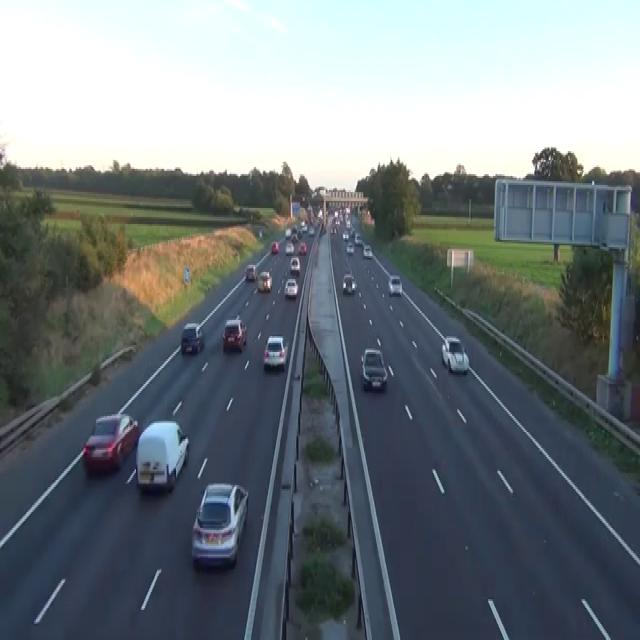Car: (190, 482, 248, 569), (135, 420, 189, 490), (83, 412, 138, 473), (360, 349, 387, 391), (441, 336, 469, 373), (263, 334, 288, 370), (222, 316, 247, 352), (180, 322, 204, 354), (387, 274, 402, 295), (257, 270, 271, 292), (284, 277, 298, 297), (342, 274, 356, 293), (289, 256, 300, 276), (245, 263, 257, 281), (362, 244, 372, 258), (298, 242, 307, 254), (285, 242, 294, 254), (271, 240, 279, 252), (346, 242, 354, 254), (354, 233, 362, 245), (320, 222, 326, 235), (342, 229, 349, 240), (300, 221, 307, 231), (308, 224, 314, 235), (291, 231, 297, 242), (285, 228, 291, 238), (345, 217, 351, 226), (297, 228, 302, 238), (350, 226, 355, 236), (446, 182, 452, 190), (345, 206, 350, 215), (317, 208, 322, 217), (330, 226, 335, 234), (258, 228, 262, 236)
